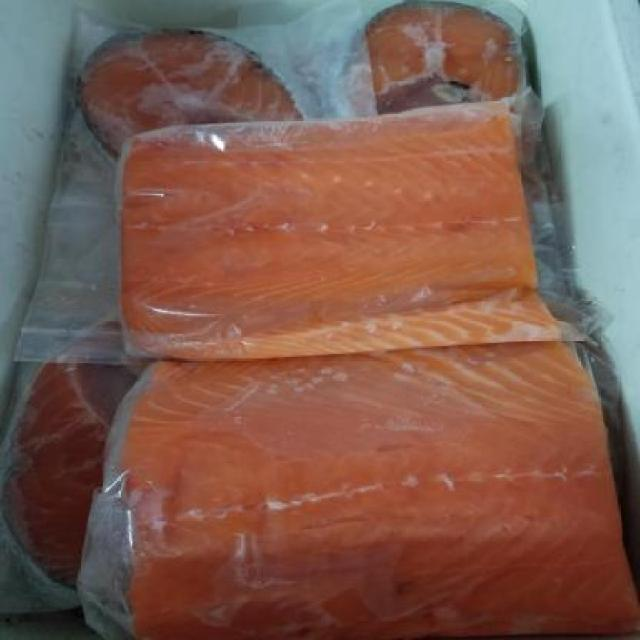salmon: (62, 346, 639, 632), (93, 91, 554, 353), (43, 23, 368, 285), (326, 3, 560, 274)
